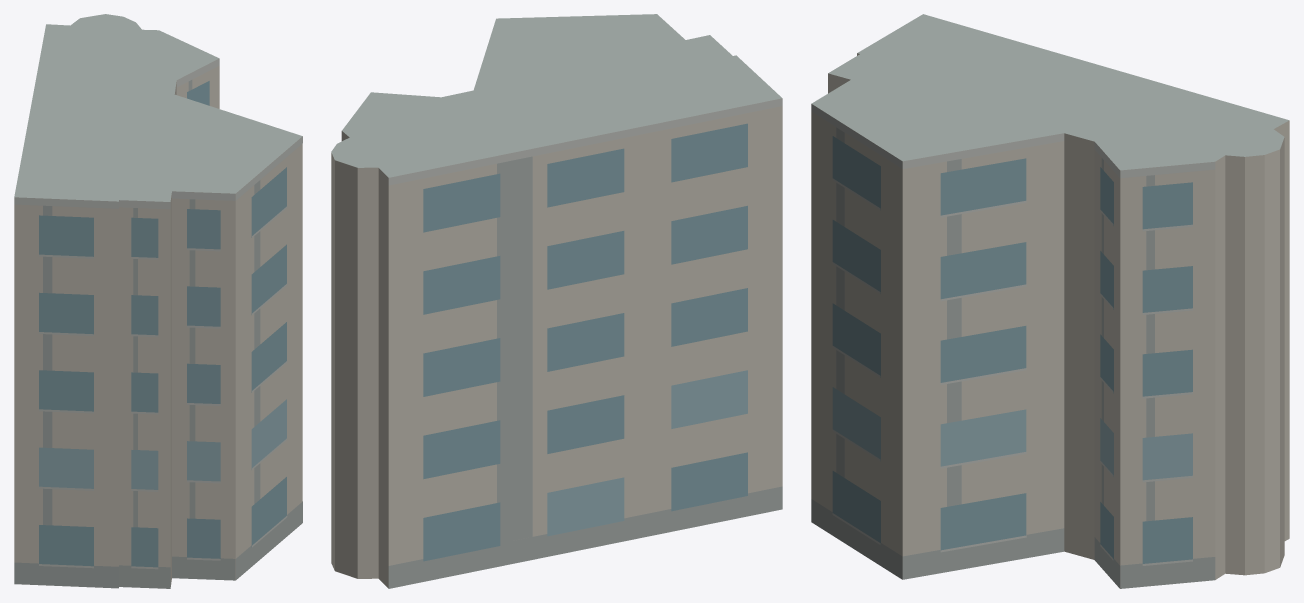
File: survey-upis-32719605.glb
3 views of the same model, side by side, from view 1: azimuth 30°, elevation 25°; view 2: azimuth 150°, elevation 25°; view 3: azimuth 270°, elevation 25° (orthographic). The views are drawn at different scales.
Visible parts, largest first — view 1: survey-upis-32719605.tmp; view 2: survey-upis-32719605.tmp; view 3: survey-upis-32719605.tmp.
Part boxes in pixels (x1,y1,x2,y2): survey-upis-32719605.tmp: [14, 14, 302, 588]; survey-upis-32719605.tmp: [331, 14, 782, 588]; survey-upis-32719605.tmp: [811, 14, 1289, 588].
Size of the model in its own units: 10.43 by 13 by 13.47.
